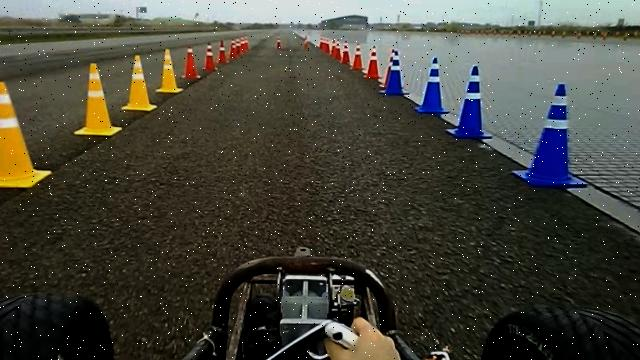blue cone: (512, 82, 588, 188), (445, 64, 493, 139), (414, 56, 450, 114), (379, 49, 410, 96)
red cone: (380, 47, 402, 89), (182, 45, 201, 80), (363, 45, 381, 79), (202, 40, 218, 72), (350, 42, 364, 71), (216, 39, 228, 64), (340, 40, 350, 65)
yellow cone: (0, 80, 52, 189), (74, 62, 122, 137), (121, 54, 158, 112), (155, 47, 184, 94)
